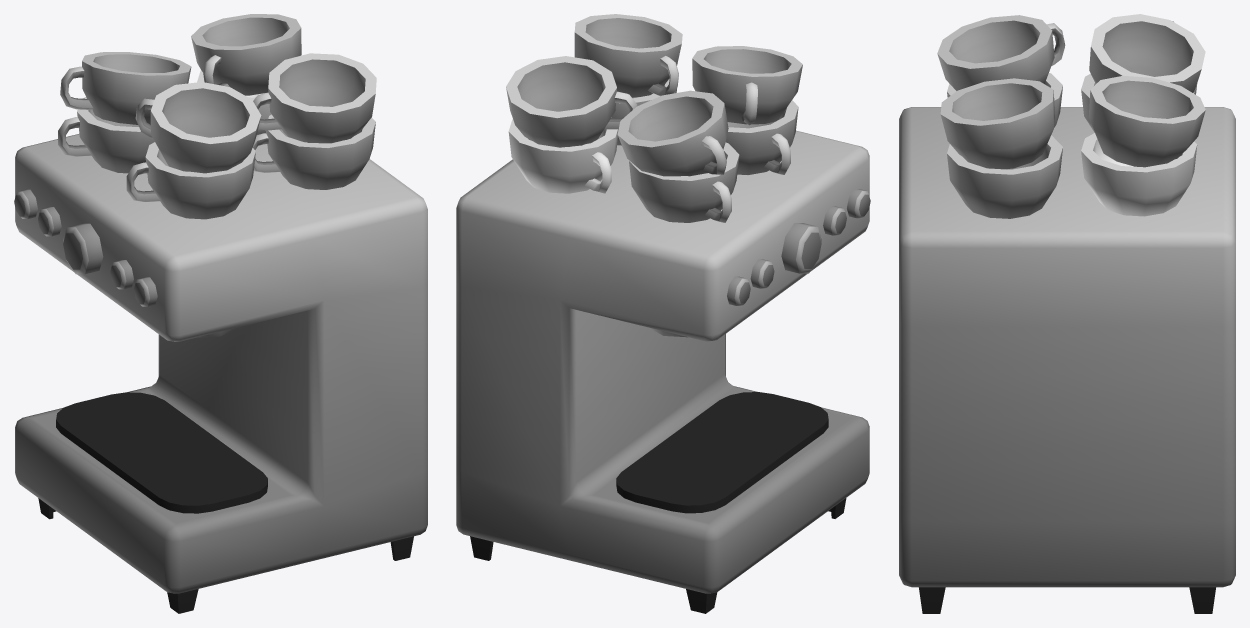
The model's file is Kaffeemaschiene.fbx.
3 renders of one model, left to right at view 1: azimuth 30°, elevation 25°; view 2: azimuth 150°, elevation 25°; view 3: azimuth 270°, elevation 25°, orthographic. The views are drawn at different scales.
Parts seen in each view (by area): view 1: Cube, Cylinder.006, Cylinder.008, Cylinder.009, Cylinder.007, Cylinder.002, Cylinder.004, Cylinder.003; view 2: Cube, Cylinder.009, Cylinder.007, Cylinder.008, Cylinder.006, Cylinder.005, Cylinder.003, Cylinder.002; view 3: Cube, Cylinder.008, Cylinder.009, Cylinder.006, Cylinder.007, Cylinder.005, Cylinder.004, Cylinder.002.
Part boxes in pixels (left/top/right/bottom): Cube: left=14, top=134, right=427, bottom=613; Cylinder.006: left=135, top=82, right=261, bottom=173; Cylinder.008: left=253, top=53, right=376, bottom=143; Cylinder.009: left=191, top=14, right=301, bottom=95; Cylinder.007: left=60, top=52, right=191, bottom=124; Cylinder.002: left=126, top=142, right=255, bottom=219; Cylinder.004: left=252, top=114, right=375, bottom=189; Cylinder.003: left=58, top=97, right=154, bottom=173; Cube: left=456, top=130, right=870, bottom=613; Cylinder.009: left=506, top=56, right=637, bottom=147; Cylinder.007: left=617, top=90, right=728, bottom=176; Cylinder.008: left=574, top=14, right=682, bottom=97; Cylinder.006: left=692, top=46, right=802, bottom=125; Cylinder.005: left=508, top=117, right=618, bottom=193; Cylinder.003: left=629, top=142, right=739, bottom=222; Cylinder.002: left=726, top=100, right=798, bottom=174; Cube: left=899, top=107, right=1235, bottom=613; Cylinder.008: left=940, top=78, right=1054, bottom=169; Cylinder.009: left=1088, top=75, right=1205, bottom=167; Cylinder.006: left=937, top=15, right=1065, bottom=90; Cylinder.007: left=1089, top=14, right=1205, bottom=92; Cylinder.005: left=1081, top=133, right=1197, bottom=216; Cylinder.004: left=947, top=135, right=1062, bottom=218; Cylinder.002: left=947, top=73, right=1062, bottom=127.
Bounding box in the file's own units: 25.19 × 40.46 × 24.99.
